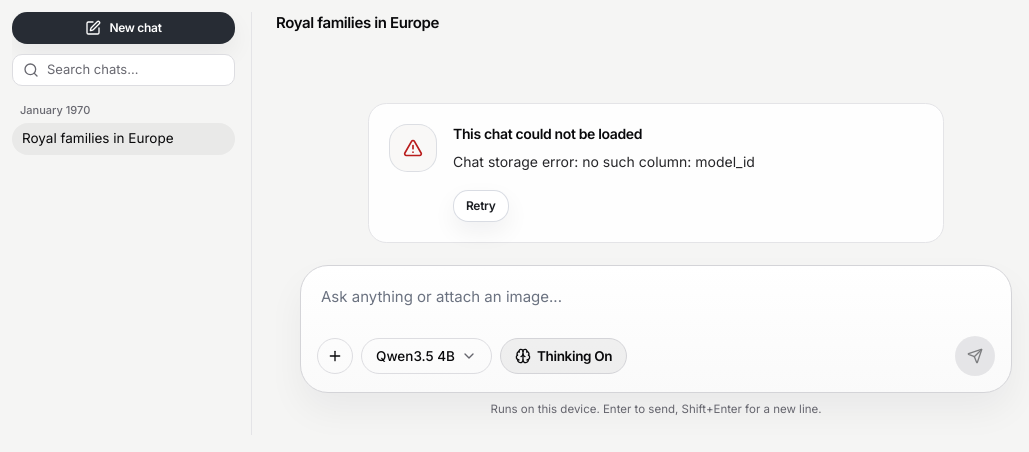
ChatPlayground › shows a failed thread as that thread's error state and retries it
The width and height of the screenshot is (1029, 452).
Expected: the text "This chat could not be loaded" is shown, [453,124,642,142]
Expected: the text "Chat storage error: no such column: model_id" is shown, [453,152,755,170]
Click the button "Retry": (481, 206) [453,190,508,222]
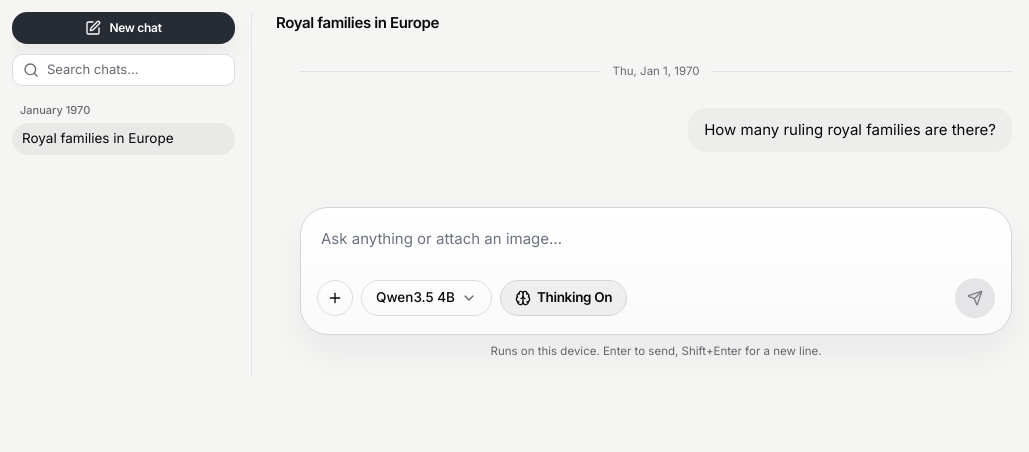
Now the text "How many ruling royal families are there?" is shown, box [704,118,996,142]
Now the text "This chat could not be loaded" is gone
